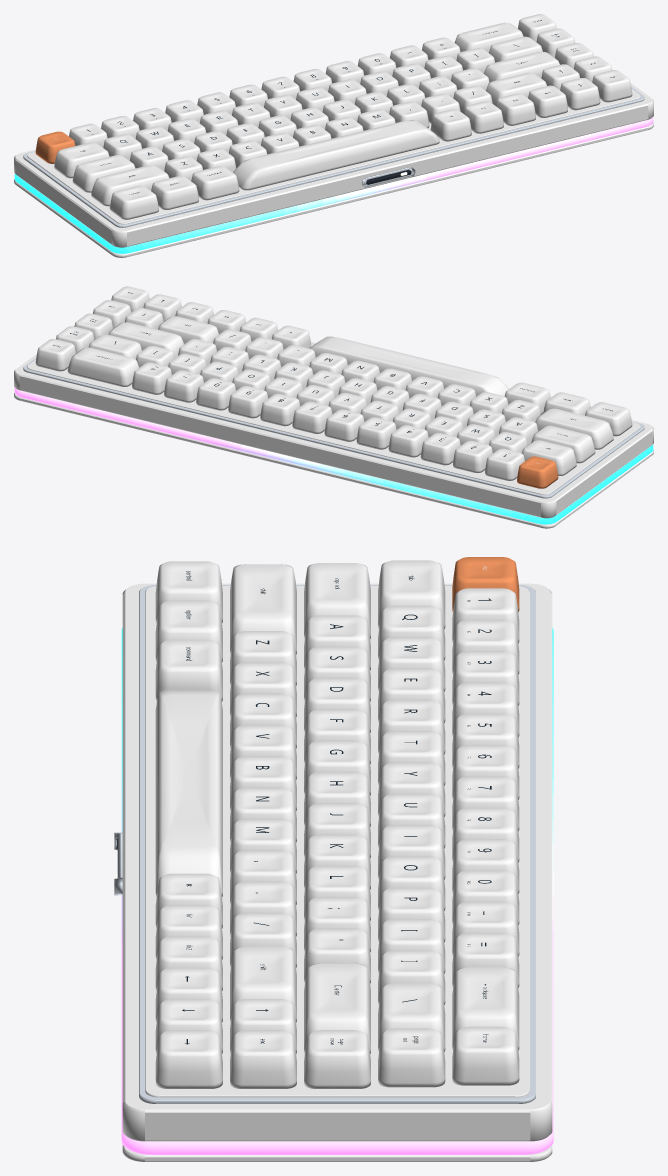
The model's file is hero-keyboard-opal65.glb.
The picture shows the model from 3 angles, top to bottom: view 1: azimuth 30°, elevation 25°; view 2: azimuth 150°, elevation 25°; view 3: azimuth 270°, elevation 25°; orthographic projection. The views are drawn at different scales.
Visible parts, largest first — view 1: White upper enclosure, Cap_Space, RGB optical perimeter, Recessed switch plate, Pearl lower housing, Pearl rim under the keybed, Cap_ShiftLeft, Cap_Enter, Cap_ControlLeft, Cap_MetaLeft, Cap_AltLeft, Cap_Backspace (+61 smaller); view 2: White upper enclosure, RGB optical perimeter, Recessed switch plate, Cap_Space, Pearl lower housing, Pearl rim under the keybed, Cap_Backspace, Cap_ShiftLeft, Cap_Enter, Cap_CapsLock, Cap_Tab, Cap_Escape (+61 smaller); view 3: White upper enclosure, Recessed switch plate, Cap_Space, Pearl rim under the keybed, RGB optical perimeter, Cap_Enter, Cap_ShiftLeft, Cap_Backspace, Cap_PageUp, Cap_Home, Cap_ArrowRight, Cap_End (+61 smaller).
Part boxes in pixels (x1,y1,x2,y2): White upper enclosure: [14, 42, 653, 247]; Cap_Space: [233, 120, 439, 190]; RGB optical perimeter: [14, 117, 653, 253]; Recessed switch plate: [27, 89, 640, 224]; Pearl lower housing: [14, 122, 653, 257]; Pearl rim under the keybed: [23, 87, 644, 227]; Cap_ShiftLeft: [91, 165, 169, 206]; Cap_Enter: [483, 51, 559, 82]; Cap_ControlLeft: [109, 185, 158, 219]; Cap_MetaLeft: [191, 166, 239, 200]; Cap_AltLeft: [151, 176, 198, 209]; Cap_Backspace: [454, 22, 523, 52]; White upper enclosure: [14, 313, 653, 518]; RGB optical perimeter: [14, 388, 653, 524]; Recessed switch plate: [27, 344, 640, 494]; Cap_Space: [309, 336, 508, 396]; Pearl lower housing: [14, 393, 653, 528]; Pearl rim under the keybed: [23, 343, 644, 498]; Cap_Backspace: [67, 347, 139, 386]; Cap_ShiftLeft: [535, 408, 613, 449]; Cap_Enter: [108, 322, 184, 358]; Cap_CapsLock: [531, 425, 595, 463]; Cap_Tab: [521, 440, 576, 475]; Cap_Escape: [517, 456, 558, 488]; White upper enclosure: [122, 583, 552, 1141]; Recessed switch plate: [145, 586, 529, 1097]; Cap_Space: [155, 689, 222, 897]; Pearl rim under the keybed: [139, 585, 535, 1103]; RGB optical perimeter: [121, 627, 553, 1154]; Cap_Enter: [304, 963, 370, 1053]; Cap_ShiftLeft: [230, 564, 296, 654]; Cap_Backspace: [452, 967, 519, 1050]; Cap_PageUp: [378, 1028, 445, 1087]; Cap_Home: [452, 1026, 519, 1085]; Cap_ArrowRight: [155, 1030, 222, 1088]; Cap_End: [230, 1030, 296, 1088].
Size of the model in its own units: 16.88 by 1.51 by 5.93.
